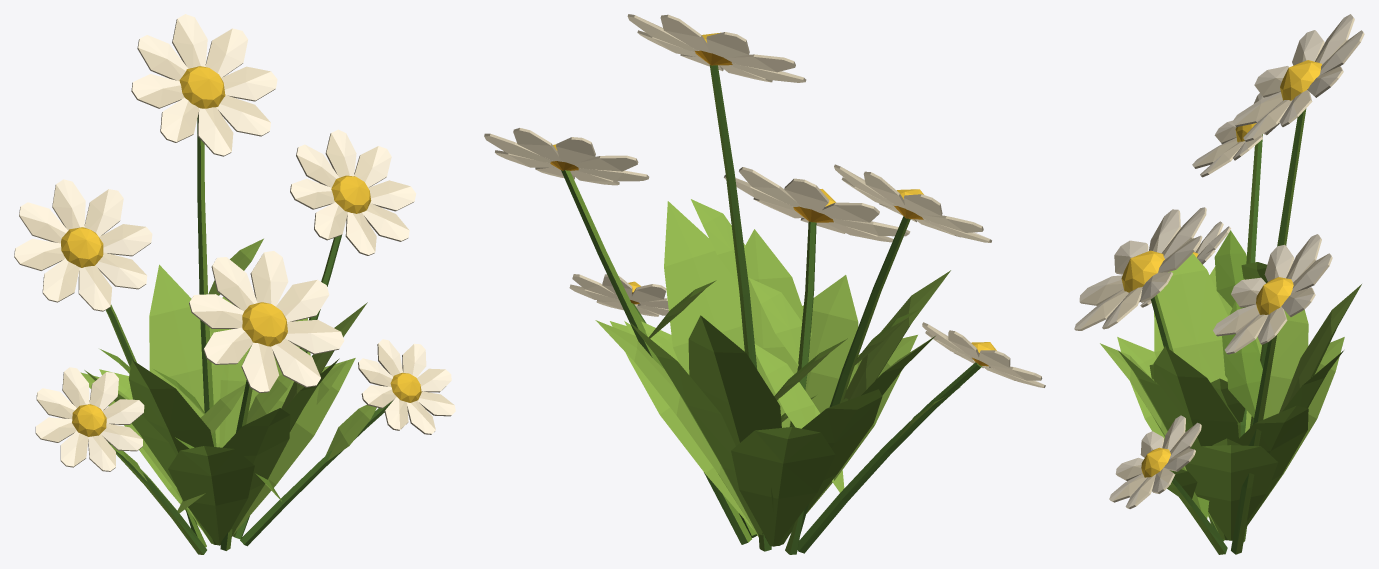
File: FMS_Flower_Daisy.fbx
The picture shows the model from 3 angles, left to right: view 1: azimuth 30°, elevation 25°; view 2: azimuth 150°, elevation 25°; view 3: azimuth 270°, elevation 25°; orthographic projection. The views are drawn at different scales.
Visible parts, largest first — view 1: FMS_Flower_Daisy; view 2: FMS_Flower_Daisy; view 3: FMS_Flower_Daisy.
Part boxes in pixels (x1,y1,x2,y2): FMS_Flower_Daisy: (14, 14, 455, 554); FMS_Flower_Daisy: (484, 14, 1045, 554); FMS_Flower_Daisy: (1074, 14, 1364, 554).
Size of the model in its own units: 0.3611 by 0.4 by 0.2007.
